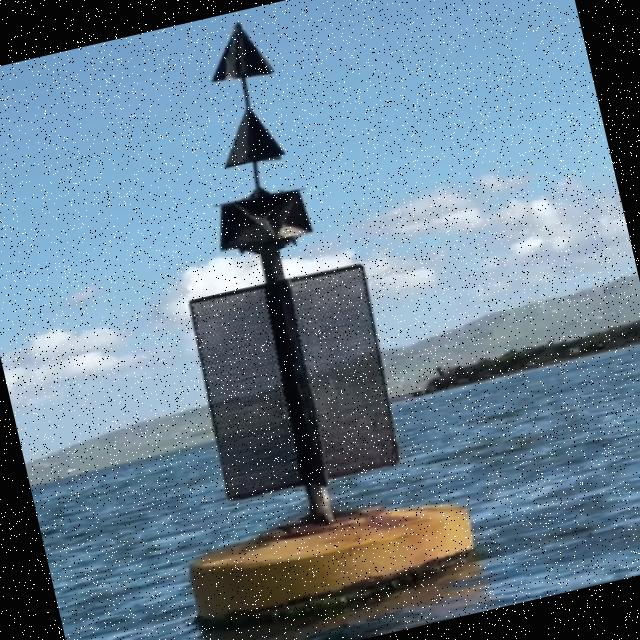marque: (75, 1, 488, 637)
